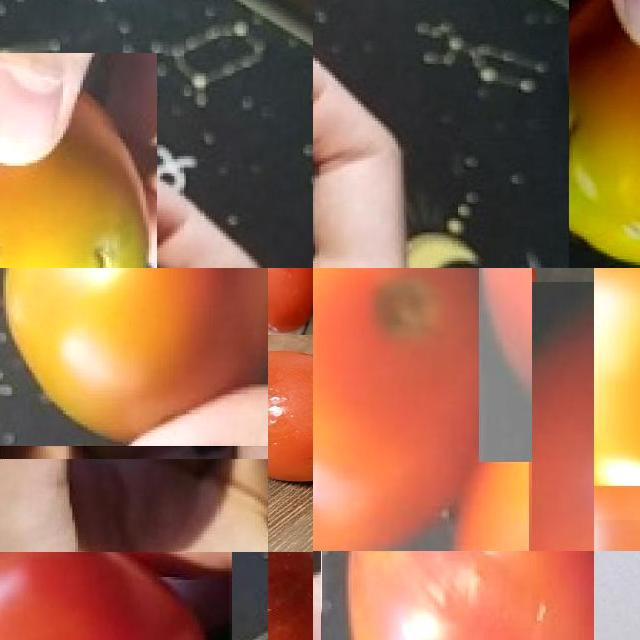0: (0, 268, 268, 446), (0, 552, 228, 640), (268, 347, 313, 489), (268, 268, 313, 326)
1: (0, 53, 157, 268), (569, 0, 640, 268)
Fresh Tomato: (313, 268, 532, 551), (479, 282, 594, 551)
Rotten Tomato: (320, 551, 594, 640)
